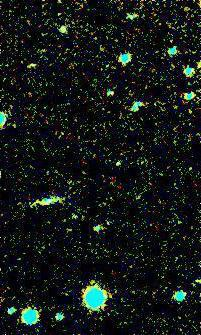star: (4, 114, 34, 144)
